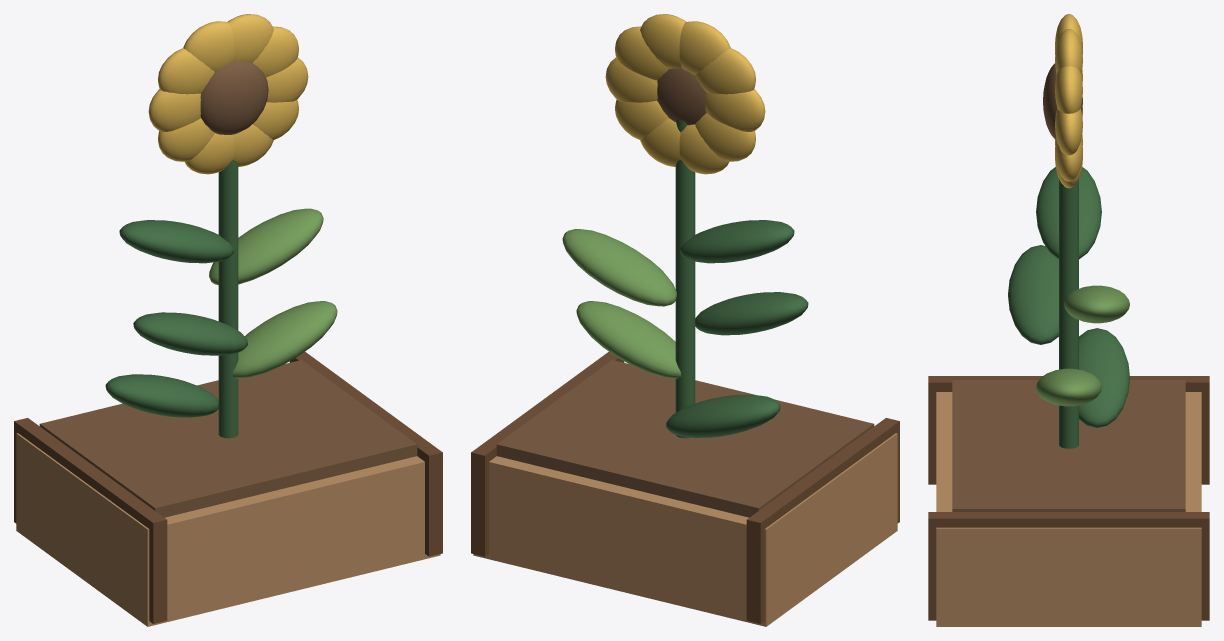
File: plant-sunflower.glb
3 renders of one model, left to right at view 1: azimuth 30°, elevation 25°; view 2: azimuth 150°, elevation 25°; view 3: azimuth 270°, elevation 25°, orthographic.
Parts seen in each view (by area): view 1: wood box, soil box, gold sphere (×10), leaf sphere (×3), trim box (×2), lightLeaf sphere (×2), leaf cylinder, soil sphere; view 2: wood box, soil box, gold sphere (×10), leaf sphere (×3), lightLeaf sphere (×2), trim box (×2), leaf cylinder, soil sphere; view 3: wood box, soil box, leaf sphere (×3), trim box (×2), gold sphere (×5), leaf cylinder, lightLeaf sphere (×2), soil sphere.
Part boxes in pixels (x1=…): wood box: x1=16, y1=433, x2=440, y2=626; soil box: x1=39, y1=360, x2=417, y2=517; gold sphere (×10): x1=148, y1=14, x2=308, y2=174; leaf sphere (×3): x1=105, y1=220, x2=247, y2=417; trim box (×2): x1=14, y1=352, x2=442, y2=623; lightLeaf sphere (×2): x1=209, y1=208, x2=337, y2=378; leaf cylinder: x1=218, y1=159, x2=238, y2=438; soil sphere: x1=200, y1=61, x2=268, y2=134; wood box: x1=473, y1=433, x2=897, y2=626; soil box: x1=496, y1=360, x2=874, y2=517; gold sphere (×10): x1=605, y1=14, x2=765, y2=174; leaf sphere (×3): x1=666, y1=220, x2=808, y2=437; lightLeaf sphere (×2): x1=562, y1=229, x2=681, y2=378; trim box (×2): x1=471, y1=352, x2=899, y2=623; leaf cylinder: x1=675, y1=119, x2=695, y2=438; soil sphere: x1=657, y1=68, x2=706, y2=125; wood box: x1=936, y1=392, x2=1201, y2=626; soil box: x1=952, y1=380, x2=1185, y2=511; leaf sphere (×3): x1=1008, y1=167, x2=1129, y2=427; trim box (×2): x1=928, y1=376, x2=1209, y2=620; gold sphere (×5): x1=1055, y1=14, x2=1082, y2=181; leaf cylinder: x1=1059, y1=179, x2=1078, y2=448; lightLeaf sphere (×2): x1=1036, y1=285, x2=1129, y2=406; soil sphere: x1=1043, y1=63, x2=1082, y2=139.
Bounding box in the file's own units: 0.85 × 1.45 × 0.7.
